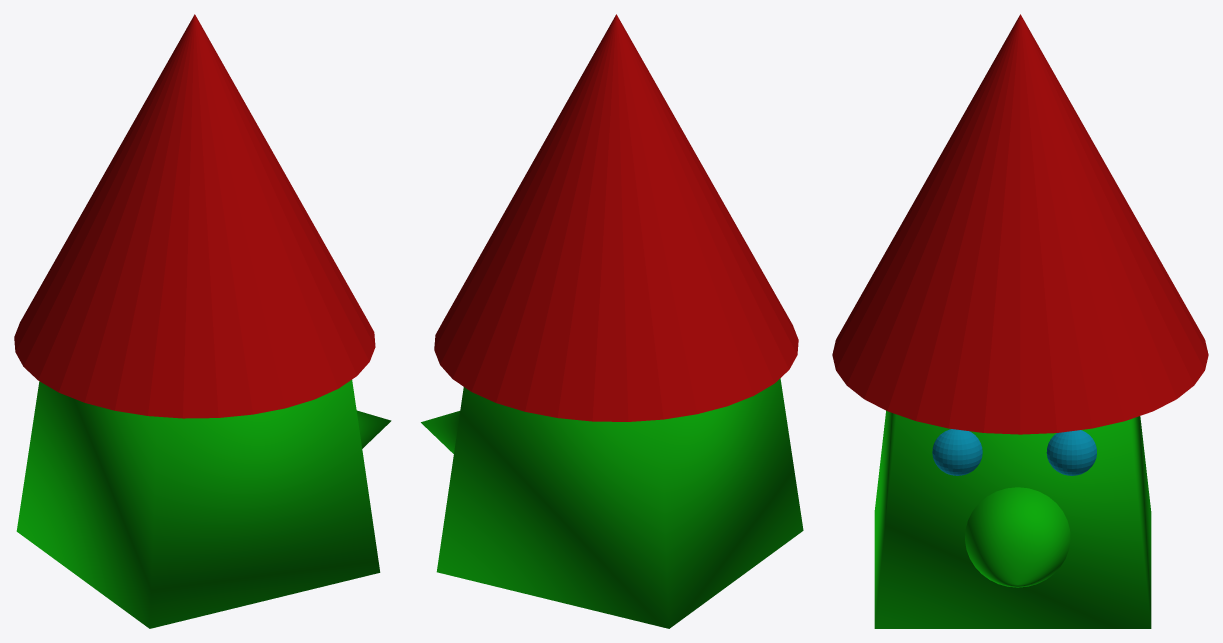
The model's file is materiales.obj.
The picture shows the model from 3 angles, left to right: view 1: azimuth 30°, elevation 25°; view 2: azimuth 150°, elevation 25°; view 3: azimuth 270°, elevation 25°; orthographic projection. The views are drawn at different scales.
Visible parts, largest first — view 1: Cone, Cube.001, Cone.001; view 2: Cone, Cube.001, Cone.001; view 3: Cone, Cube.001, Cone.001, Sphere, Sphere.001.
Boxes of the visible parts, x1,y1,x2,y2 form: Cone: [14, 14, 375, 418]; Cube.001: [16, 380, 380, 628]; Cone.001: [356, 410, 391, 448]; Cone: [434, 14, 798, 421]; Cube.001: [436, 378, 803, 628]; Cone.001: [421, 411, 459, 453]; Cone: [832, 14, 1208, 434]; Cube.001: [874, 410, 1151, 628]; Cone.001: [965, 487, 1070, 587]; Sphere: [932, 429, 982, 475]; Sphere.001: [1046, 430, 1096, 475].
Size of the model in its own units: 2.25 by 3.26 by 2.
